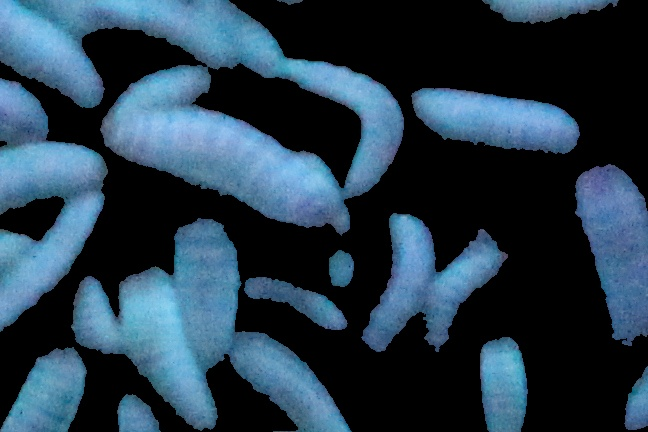larvae: (104, 91, 354, 225), (281, 56, 405, 187), (406, 240, 516, 386), (405, 76, 585, 162), (123, 271, 222, 424), (569, 161, 648, 344), (225, 327, 350, 432), (3, 191, 102, 319), (365, 201, 431, 385), (1, 1, 100, 103), (169, 225, 242, 360), (1, 137, 109, 225), (237, 264, 348, 343), (105, 1, 231, 70), (6, 338, 88, 432), (203, 1, 288, 82), (472, 335, 524, 432), (106, 69, 217, 109), (71, 283, 123, 356), (1, 1, 103, 35)
